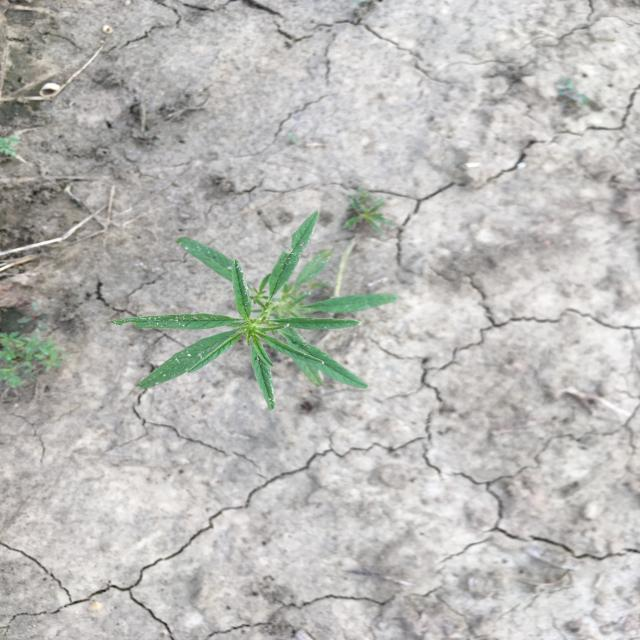Waterhemp: (107, 207, 402, 415)
